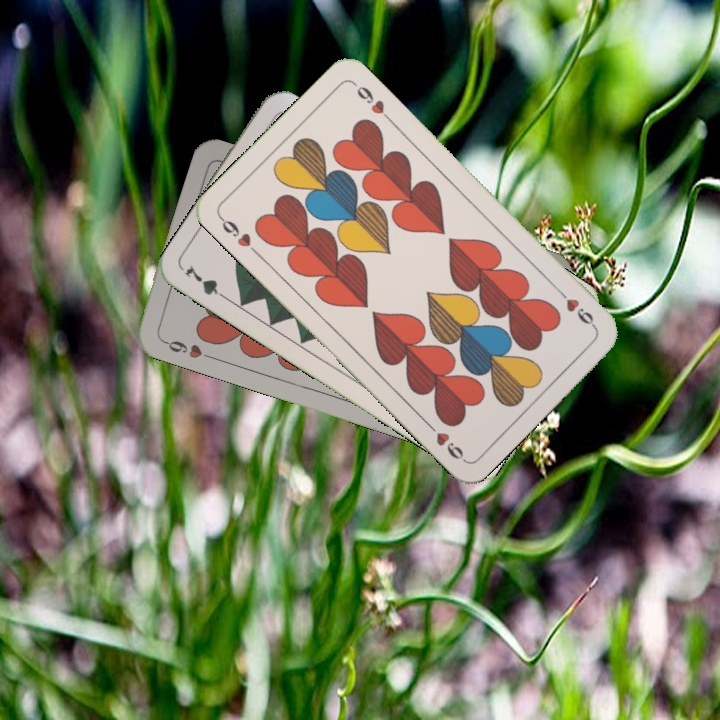G7: (180, 261, 233, 304)
H9: (215, 212, 262, 257), (553, 284, 598, 331), (158, 335, 215, 362)
